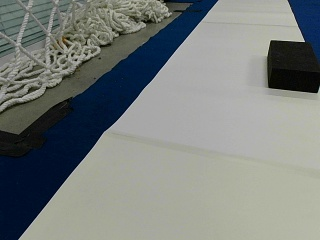block: (266, 39, 319, 92)
